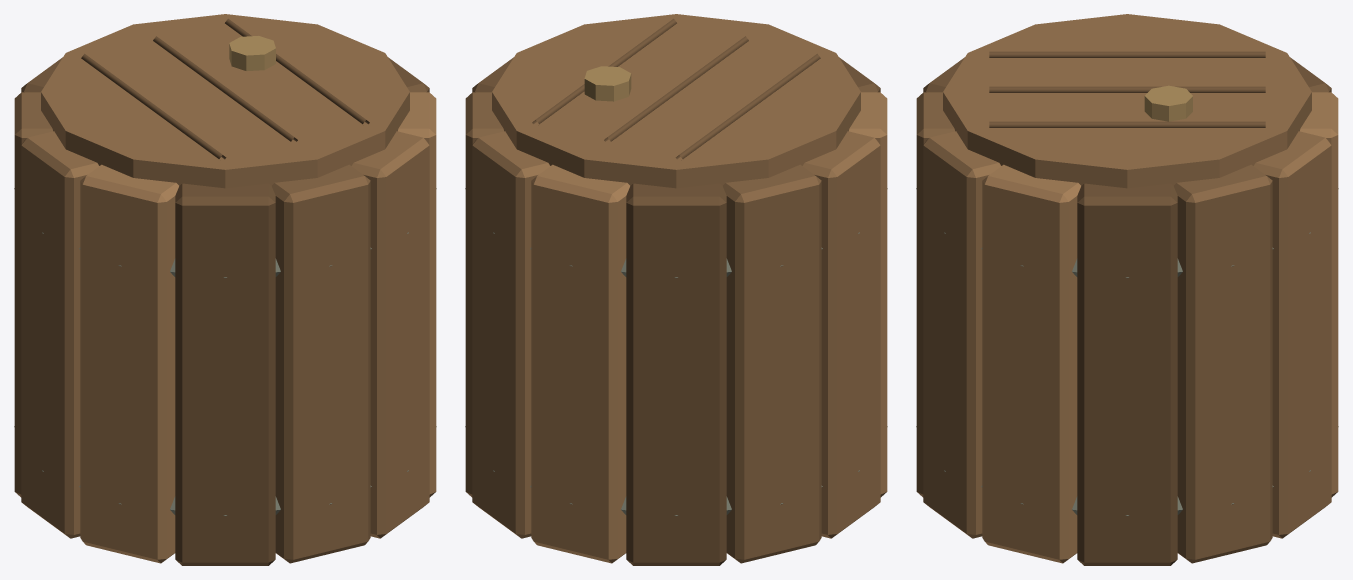
Rendered from oil-barrel.glb.
3 views of the same model, side by side, from view 1: azimuth 30°, elevation 25°; view 2: azimuth 150°, elevation 25°; view 3: azimuth 270°, elevation 25° (orthographic).
Visible parts, largest first — view 1: Barrel lid, Oak stave.008, Oak stave.007, Oak stave.009, Oak stave.006, Oak stave.010, Oak stave.005, Oak stave.011, Oil stopper, Lid seam, Lid seam.001, Lid seam.002; view 2: Barrel lid, Oak stave.004, Oak stave.003, Oak stave.005, Oak stave.002, Oak stave.006, Oak stave.001, Oak stave.007, Oil stopper, Lid seam, Lid seam.001, Lid seam.002; view 3: Barrel lid, Oak stave, Oak stave.001, Oak stave.011, Oak stave.002, Oak stave.010, Oak stave.003, Oak stave.009, Lid seam, Lid seam.002, Lid seam.001, Oil stopper.
Part boxes in pixels (left/top/right/bottom): Barrel lid: left=41, top=14, right=409, bottom=188; Oak stave.008: left=175, top=183, right=275, bottom=565; Oak stave.007: left=80, top=164, right=178, bottom=563; Oak stave.009: left=272, top=164, right=370, bottom=563; Oak stave.006: left=21, top=131, right=98, bottom=538; Oak stave.010: left=352, top=131, right=429, bottom=538; Oak stave.005: left=14, top=92, right=52, bottom=497; Oak stave.011: left=398, top=92, right=436, bottom=497; Oil stopper: left=229, top=36, right=275, bottom=71; Lid seam: left=81, top=53, right=226, bottom=159; Lid seam.001: left=153, top=36, right=297, bottom=141; Lid seam.002: left=225, top=18, right=369, bottom=124; Barrel lid: left=492, top=14, right=860, bottom=188; Oak stave.004: left=626, top=183, right=726, bottom=565; Oak stave.003: left=531, top=164, right=629, bottom=563; Oak stave.005: left=723, top=164, right=821, bottom=563; Oak stave.002: left=472, top=131, right=549, bottom=538; Oak stave.006: left=803, top=131, right=880, bottom=538; Oak stave.001: left=465, top=92, right=503, bottom=497; Oak stave.007: left=849, top=92, right=887, bottom=497; Oil stopper: left=584, top=66, right=631, bottom=101; Lid seam: left=675, top=53, right=820, bottom=159; Lid seam.001: left=604, top=36, right=748, bottom=141; Lid seam.002: left=532, top=18, right=676, bottom=124; Barrel lid: left=943, top=14, right=1311, bottom=188; Oak stave: left=1077, top=183, right=1177, bottom=565; Oak stave.001: left=1174, top=164, right=1272, bottom=563; Oak stave.011: left=982, top=164, right=1080, bottom=563; Oak stave.002: left=1254, top=131, right=1331, bottom=538; Oak stave.010: left=923, top=131, right=1000, bottom=538; Oak stave.003: left=1300, top=92, right=1338, bottom=497; Oak stave.009: left=916, top=92, right=954, bottom=497; Lid seam: left=989, top=51, right=1265, bottom=57; Lid seam.002: left=989, top=121, right=1265, bottom=127; Lid seam.001: left=989, top=86, right=1265, bottom=92; Oil stopper: left=1144, top=85, right=1192, bottom=121.
Size of the model in its own units: 0.612 by 0.6505 by 0.612.
